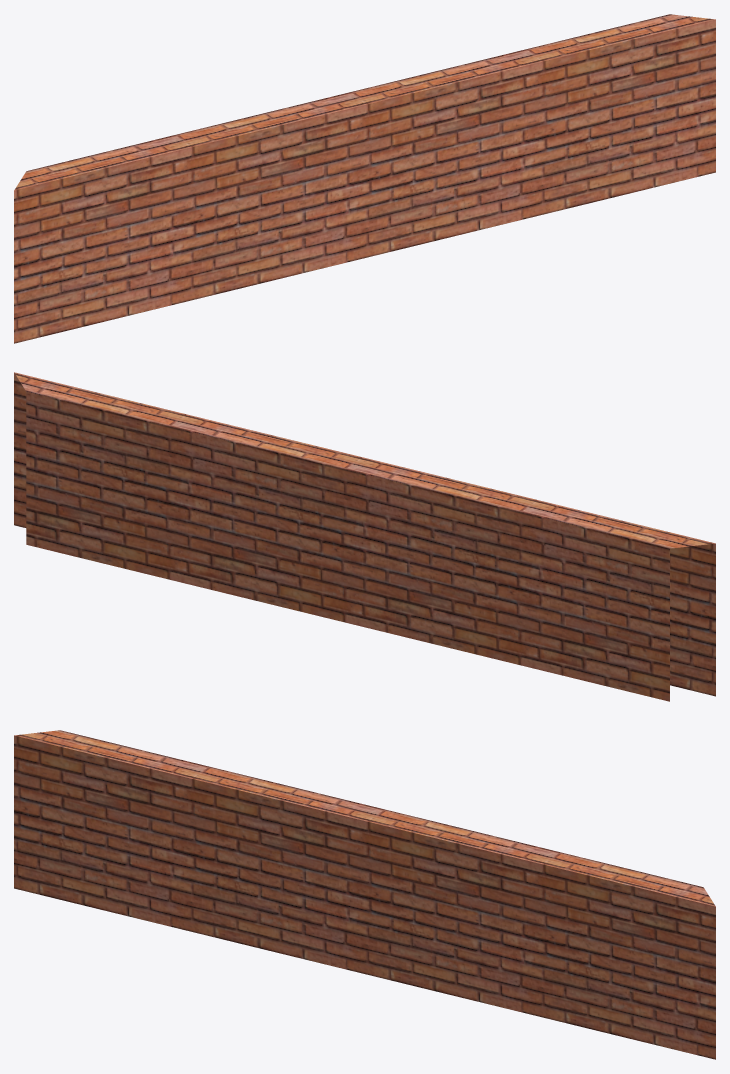
Rendered from WD_EastWall.fbx.
3 views of the same model, one above another, from view 1: azimuth 30°, elevation 25°; view 2: azimuth 150°, elevation 25°; view 3: azimuth 330°, elevation 25° (orthographic).
Visible parts, largest first — view 1: Wall_East; view 2: Wall_East; view 3: Wall_East.
Boxes of the visible parts, x1,y1,x2,y2 form: Wall_East: (14,14,715,343); Wall_East: (14,372,715,701); Wall_East: (14,730,715,1059).
Size of the model in its own units: 24 by 5 by 1.
Materials: 1 (1 with a texture image).
